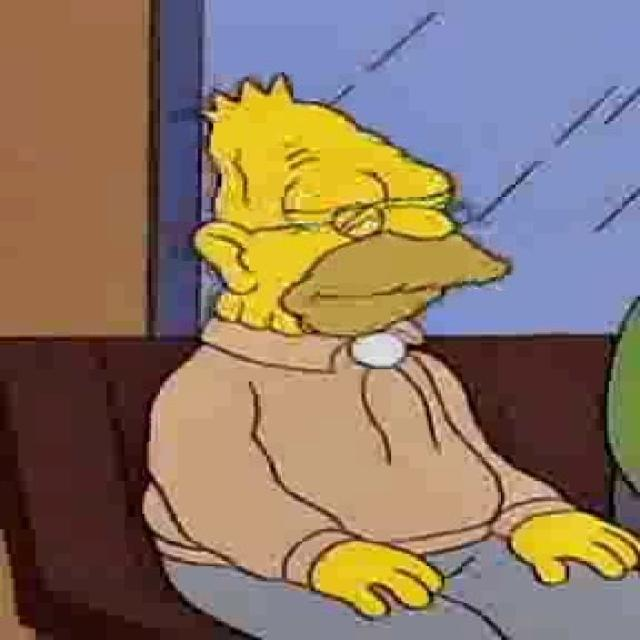Abraham Grampa Simpson: (187, 74, 516, 343)
